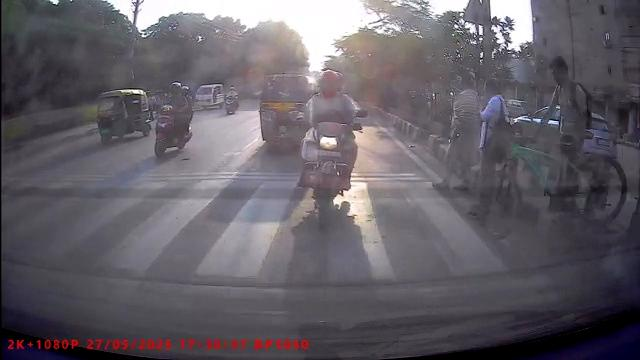motorcycle_with_helmet: (295, 67, 367, 225), (151, 80, 195, 160)
